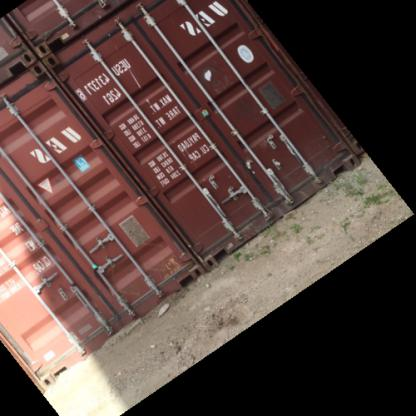Damage: (117, 223, 206, 299)
